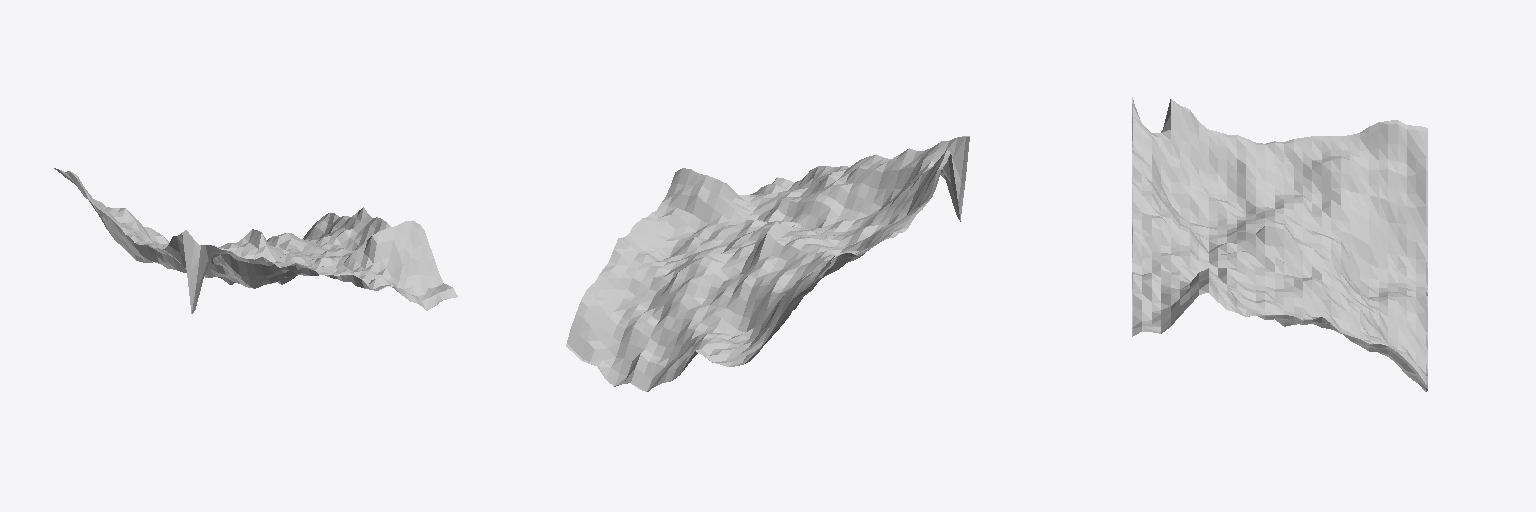
Rendered from terrain_0_2.obj.
3 renders of one model, left to right at view 1: azimuth 30°, elevation 25°; view 2: azimuth 150°, elevation 25°; view 3: azimuth 270°, elevation 25°, orthographic.
Visible parts, largest first — view 1: terrain_0_2_Plane.058; view 2: terrain_0_2_Plane.058; view 3: terrain_0_2_Plane.058.
Part boxes in pixels (bbox=[...]): terrain_0_2_Plane.058: bbox=[54, 168, 457, 313]; terrain_0_2_Plane.058: bbox=[566, 136, 969, 391]; terrain_0_2_Plane.058: bbox=[1132, 97, 1427, 391].
Bounding box in the file's own units: 32 × 23.11 × 32.